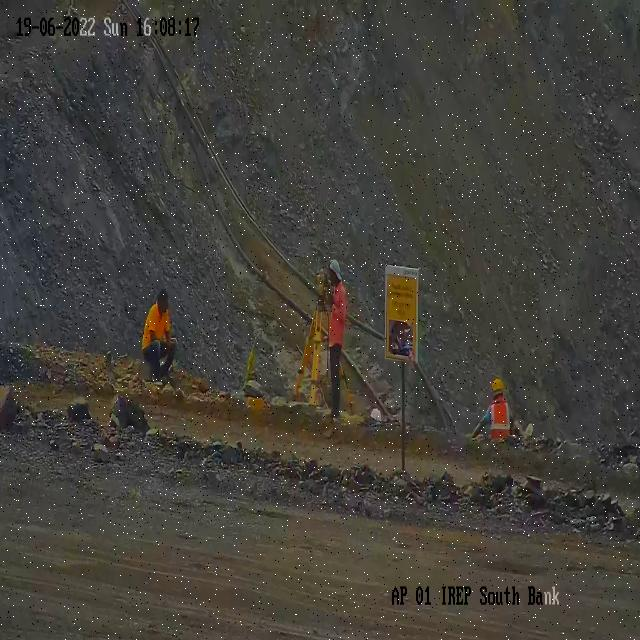Boots: (329, 408, 342, 419), (160, 366, 170, 379), (152, 372, 160, 384)
Helmet: (491, 379, 505, 391)
Mask: (490, 400, 511, 437)
